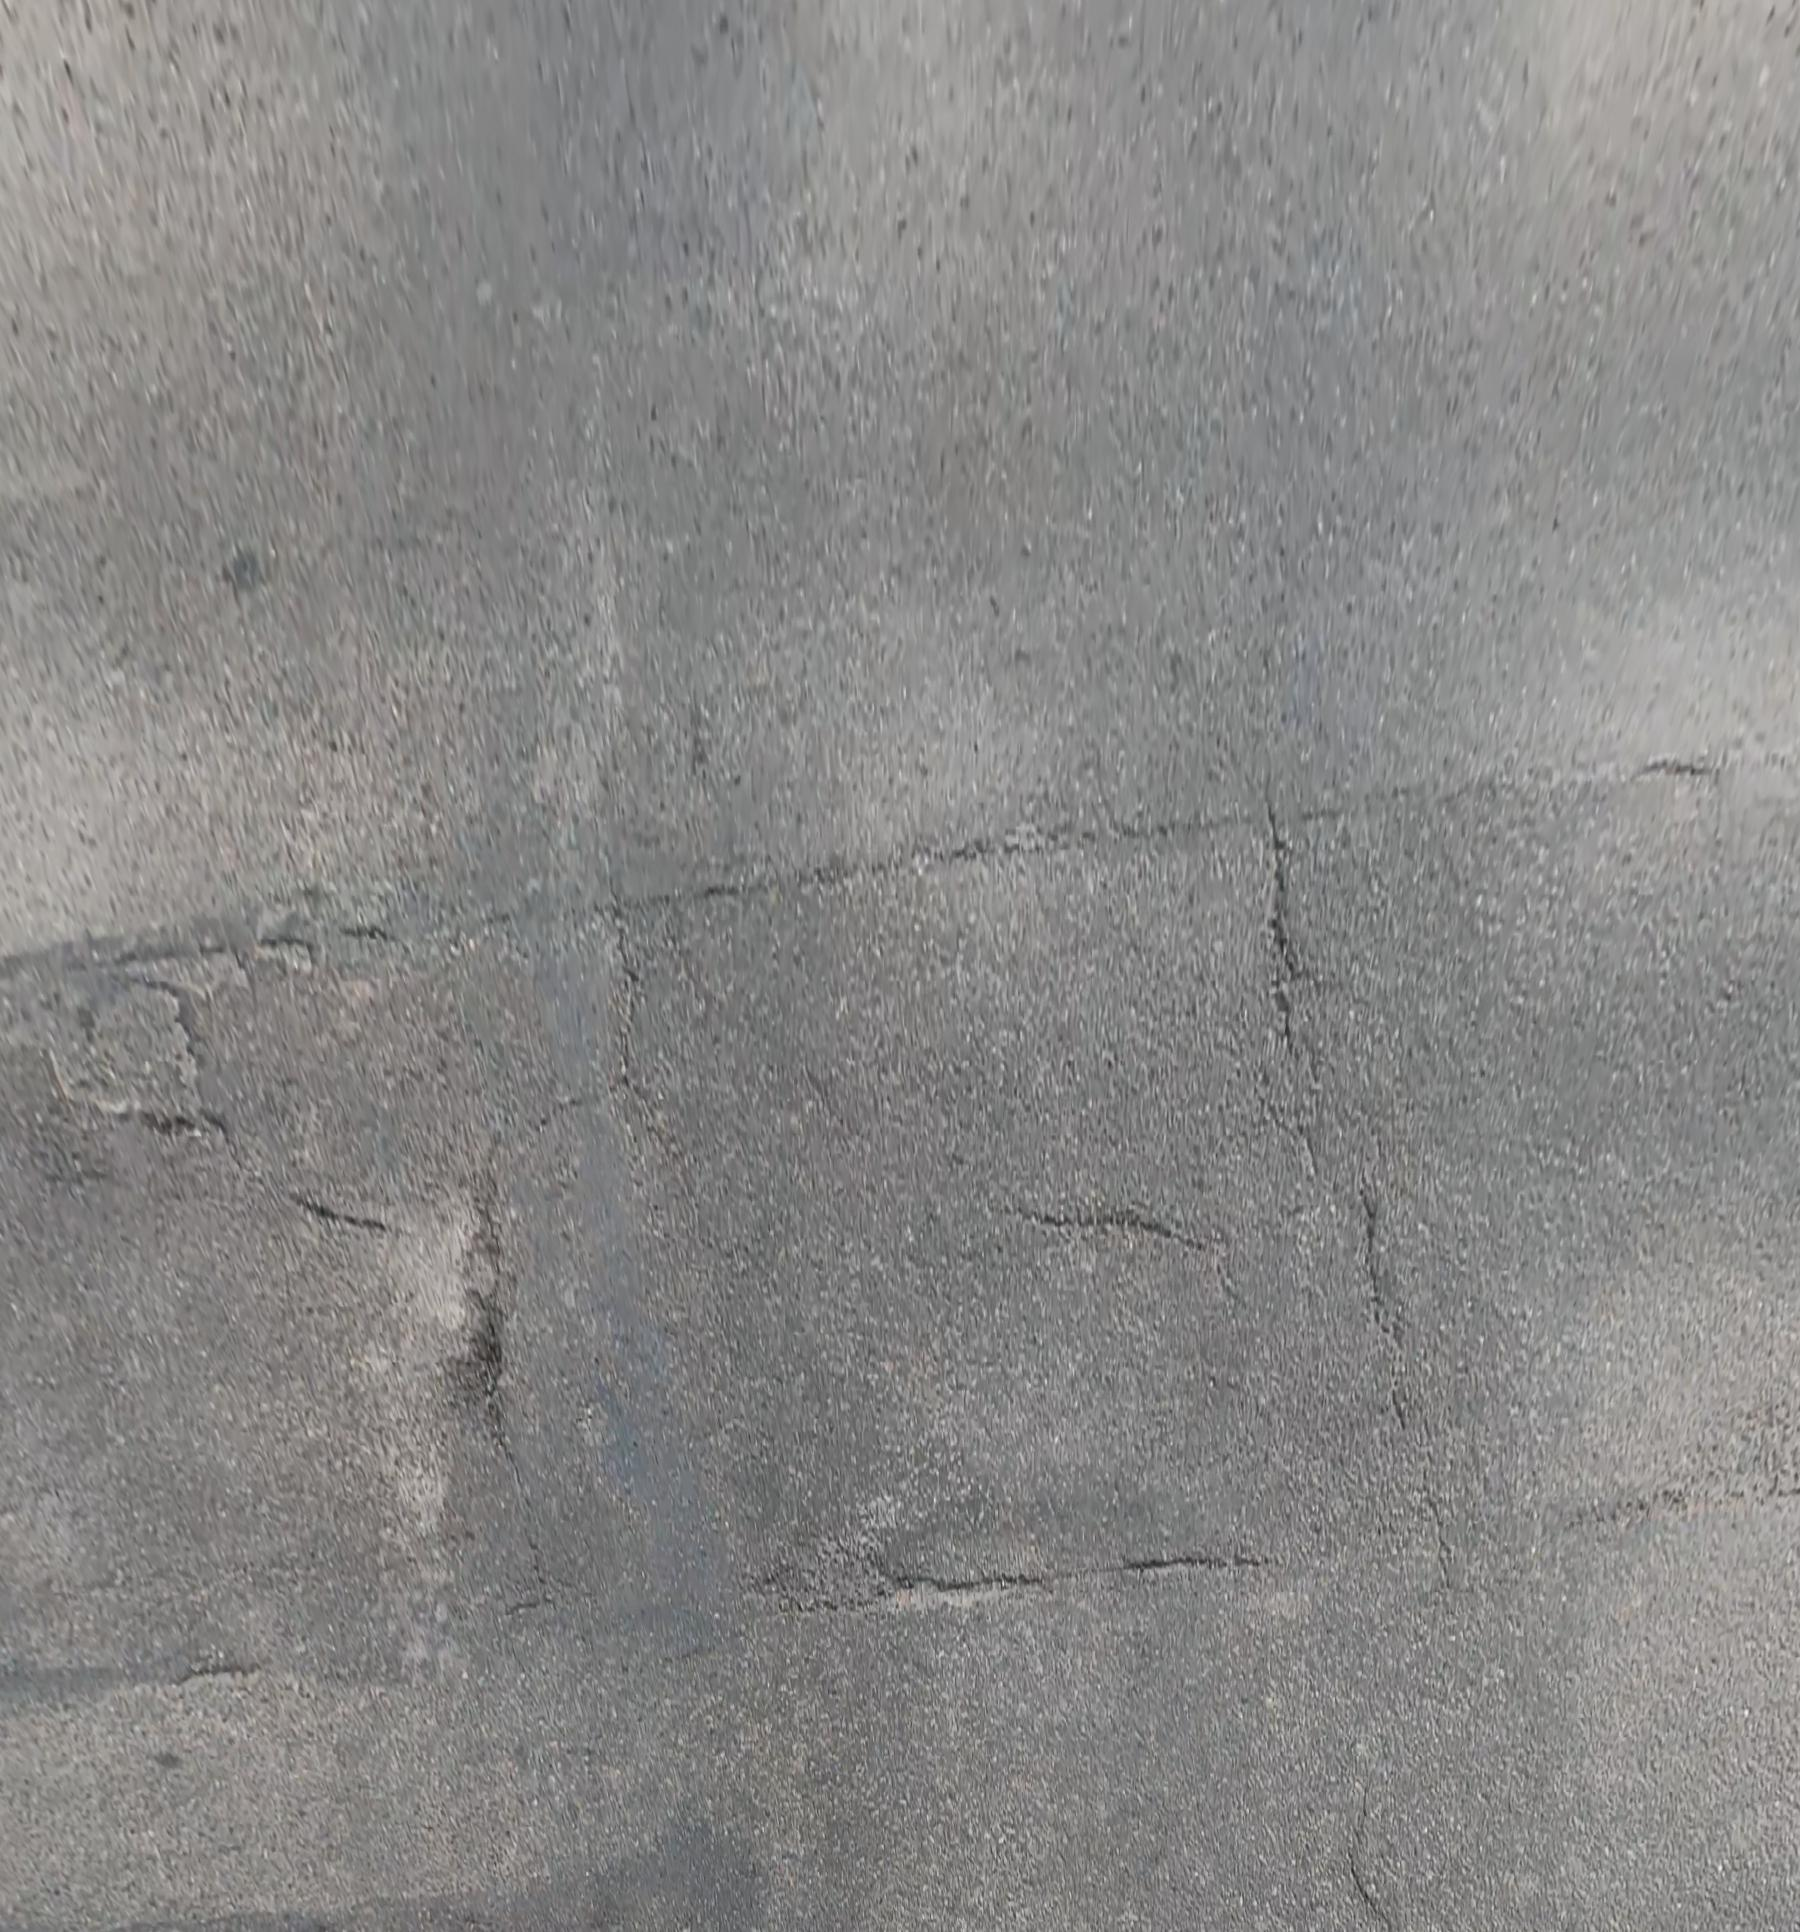pothole: (36, 941, 311, 1130)
